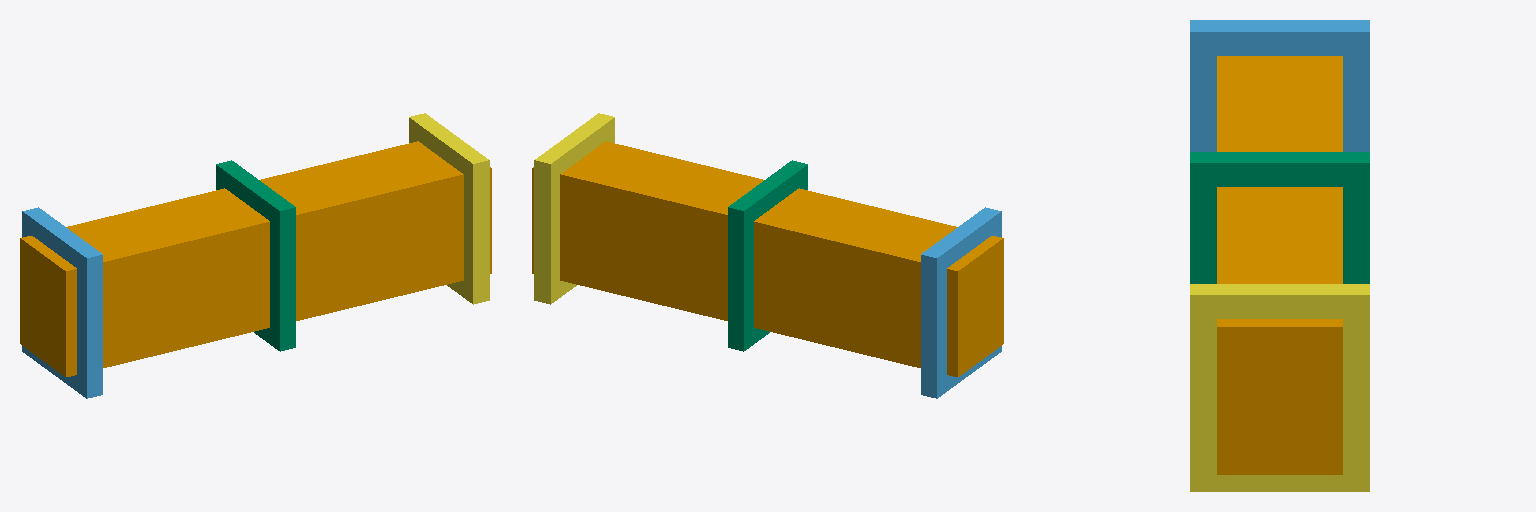
URDF robot description (debris030):
<?xml version="1.0" ?>
<robot name="debris030">

<link name="debris030">
<visual> <origin xyz="0 0 0" rpy="0 0 0" />
<geometry> <box size="1.30 0.24 0.31"/> </geometry>
</visual>
<collision> <origin xyz="0 0 0" rpy="0 0 0" />
<geometry> <box size="1.30 0.24 0.31"/> </geometry>
</collision>
<inertial> <origin xyz="0 0 0" rpy="0 0 0" />
<mass value="10.0" />
<inertia ixx="0.6338" ixy="0" ixz="0" iyy="0.6338" iyz="0" izz="0.6338" />
</inertial>
</link>
<gazebo reference="debris030"> <material>Gazebo/WoodFloor</material> </gazebo>

<link name="debris0300">
<visual> <origin xyz="-0.59 0 0" rpy="0 0 0" />
<geometry> <box size="0.05 0.34 0.41"/> </geometry>
</visual>
<collision> <origin xyz="-0.59 0 0" rpy="0 0 0" />
<geometry> <box size="0.05 0.34 0.41"/> </geometry>
</collision>
<inertial> <origin xyz="0 0 0" rpy="0 0 0" />
<mass value="0.1" />
<inertia ixx="0.0100" ixy="0" ixz="0" iyy="0.0100" iyz="0" izz="0.0100" />
</inertial>
</link>
<gazebo reference="debris0300"> <material>Gazebo/WoodFloor</material> </gazebo>

<joint name="debris0300joint" type="fixed">
<parent link="debris030"/>
<child link="debris0300"/>
<origin xyz="0 0 0" rpy="0 0 0" />
</joint>

<link name="debris0301">
<visual> <origin xyz="0.00 0 0" rpy="0 0 0" />
<geometry> <box size="0.05 0.34 0.41"/> </geometry>
</visual>
<collision> <origin xyz="0.00 0 0" rpy="0 0 0" />
<geometry> <box size="0.05 0.34 0.41"/> </geometry>
</collision>
<inertial> <origin xyz="0 0 0" rpy="0 0 0" />
<mass value="0.1" />
<inertia ixx="0.0100" ixy="0" ixz="0" iyy="0.0100" iyz="0" izz="0.0100" />
</inertial>
</link>
<gazebo reference="debris0301"> <material>Gazebo/WoodFloor</material> </gazebo>

<joint name="debris0301joint" type="fixed">
<parent link="debris030"/>
<child link="debris0301"/>
<origin xyz="0 0 0" rpy="0 0 0" />
</joint>

<link name="debris0302">
<visual> <origin xyz="0.59 0 0" rpy="0 0 0" />
<geometry> <box size="0.05 0.34 0.41"/> </geometry>
</visual>
<collision> <origin xyz="0.59 0 0" rpy="0 0 0" />
<geometry> <box size="0.05 0.34 0.41"/> </geometry>
</collision>
<inertial> <origin xyz="0 0 0" rpy="0 0 0" />
<mass value="0.1" />
<inertia ixx="0.0100" ixy="0" ixz="0" iyy="0.0100" iyz="0" izz="0.0100" />
</inertial>
</link>
<gazebo reference="debris0302"> <material>Gazebo/WoodFloor</material> </gazebo>

<joint name="debris0302joint" type="fixed">
<parent link="debris030"/>
<child link="debris0302"/>
<origin xyz="0 0 0" rpy="0 0 0" />
</joint>

</robot>

--- Render facts (derived) ---
Views: 3 orthographic renders of the robot side by side, from view 1: azimuth 30°, elevation 25°; view 2: azimuth 150°, elevation 25°; view 3: azimuth 270°, elevation 25°.
Robot: debris030 — 4 links, 3 joints (3 fixed); root link debris030; default pose: all joints at 0.
Visible links, largest first — view 1: debris030, debris0300, debris0302, debris0301; view 2: debris030, debris0300, debris0302, debris0301; view 3: debris030, debris0302, debris0300, debris0301.
Boxes of the visible links, bbox=[...] form: debris030: bbox=[20, 141, 491, 376]; debris0300: bbox=[22, 207, 102, 398]; debris0302: bbox=[409, 113, 489, 304]; debris0301: bbox=[216, 160, 295, 351]; debris030: bbox=[532, 141, 1003, 376]; debris0300: bbox=[921, 207, 1001, 398]; debris0302: bbox=[534, 113, 614, 304]; debris0301: bbox=[728, 160, 807, 351]; debris030: bbox=[1217, 56, 1342, 474]; debris0302: bbox=[1190, 284, 1369, 491]; debris0300: bbox=[1190, 20, 1369, 151]; debris0301: bbox=[1190, 152, 1369, 283].
Bounding box of the posed robot: 1.3 × 0.34 × 0.41 m (x, y, z).
Geometry: primitives only (box / cylinder / sphere), no mesh files.
